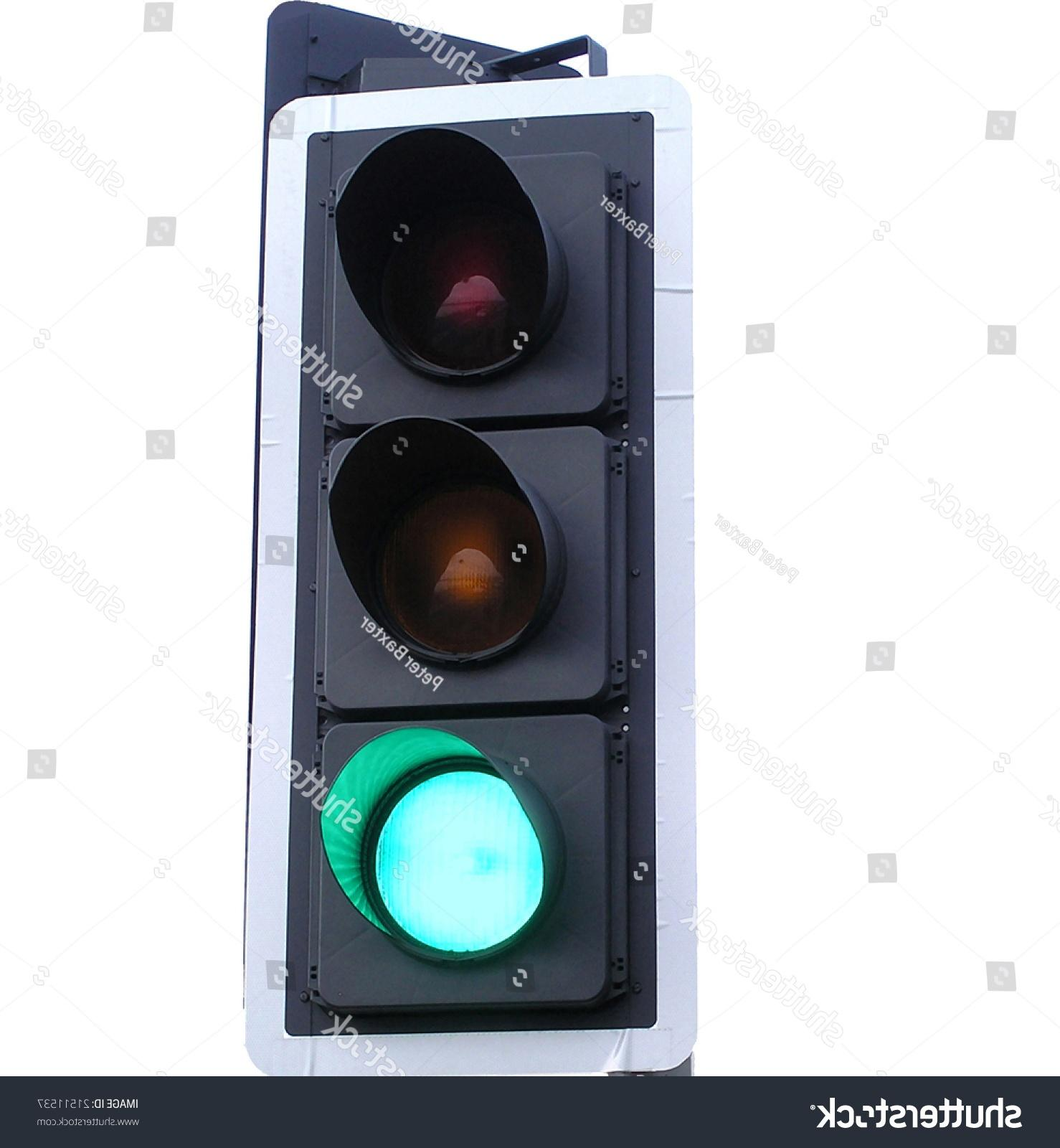Traffic light green: (251, 118, 703, 1040)
